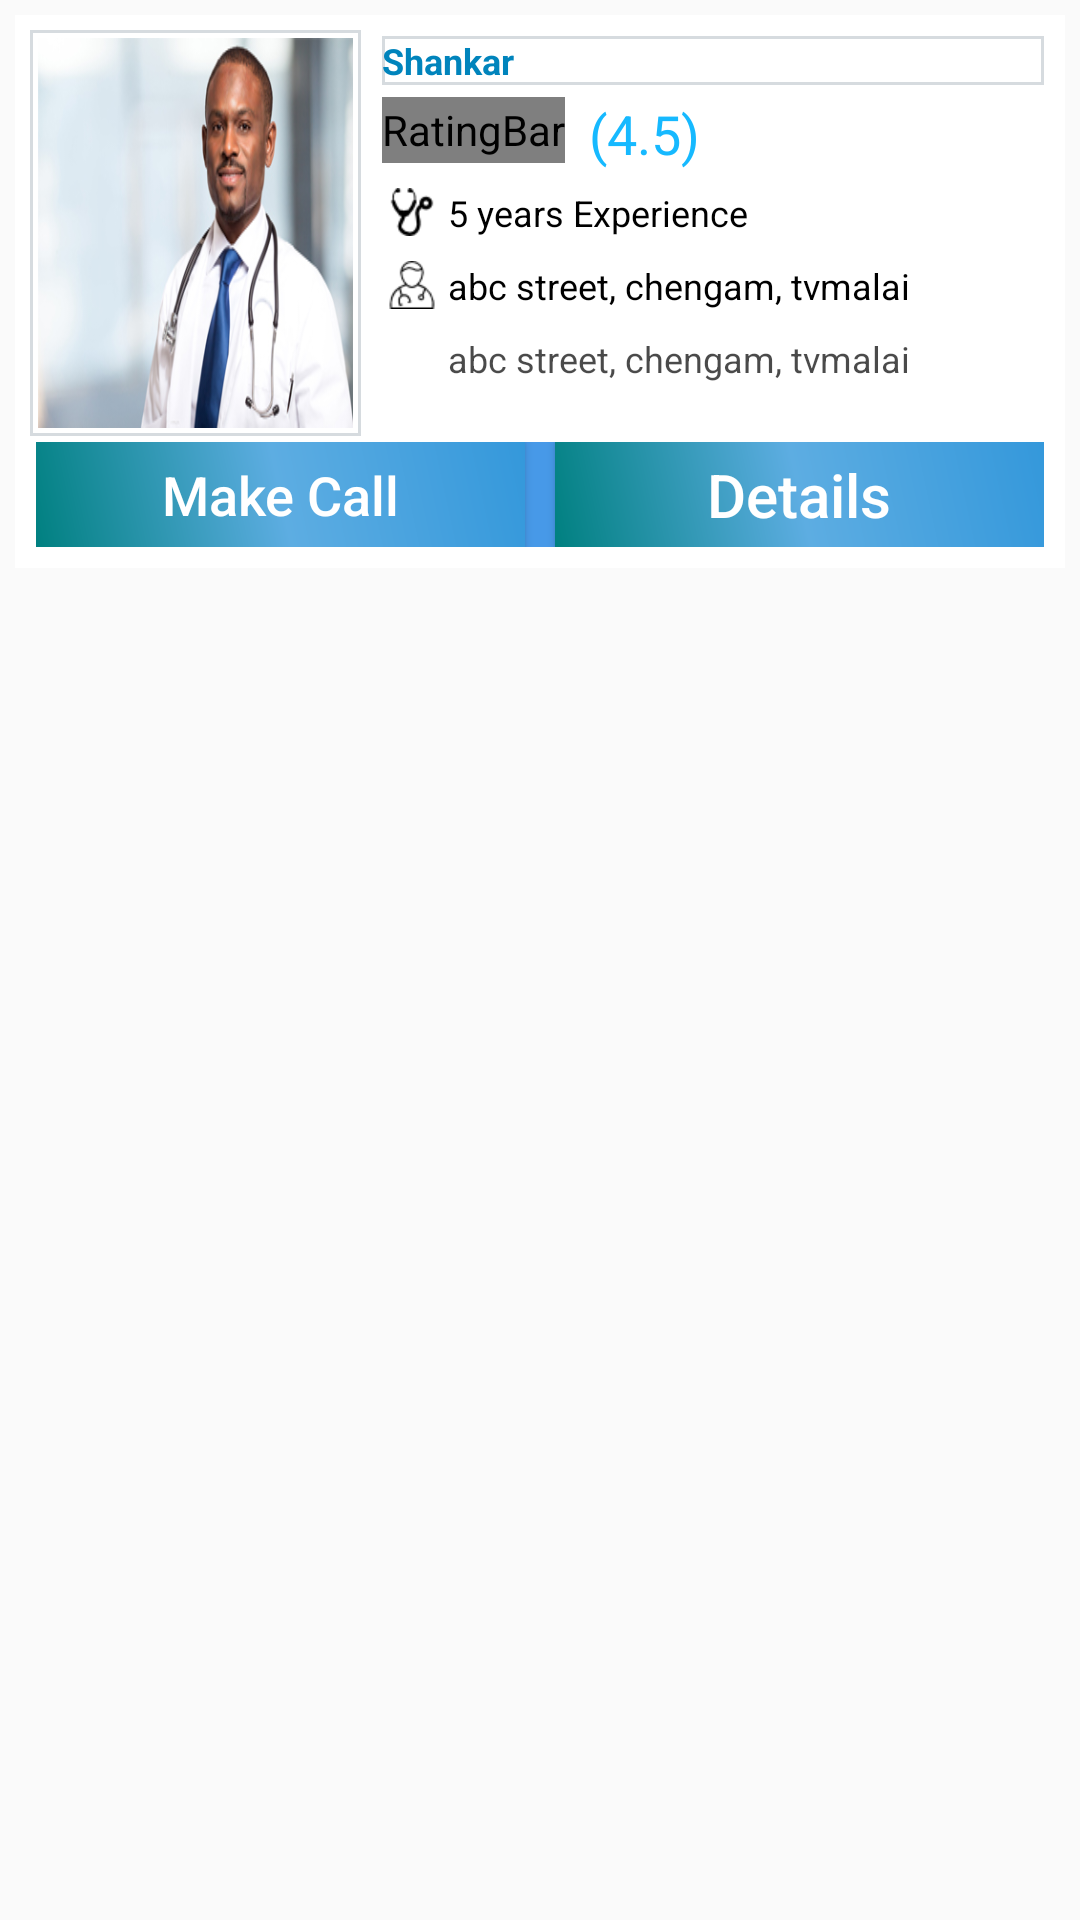

Icons on this 1080x1920 Android screen, each with its box as bbox(x1, y1, x2, y2):
doctor: bbox(391, 188, 433, 236), bbox(389, 261, 435, 309)
